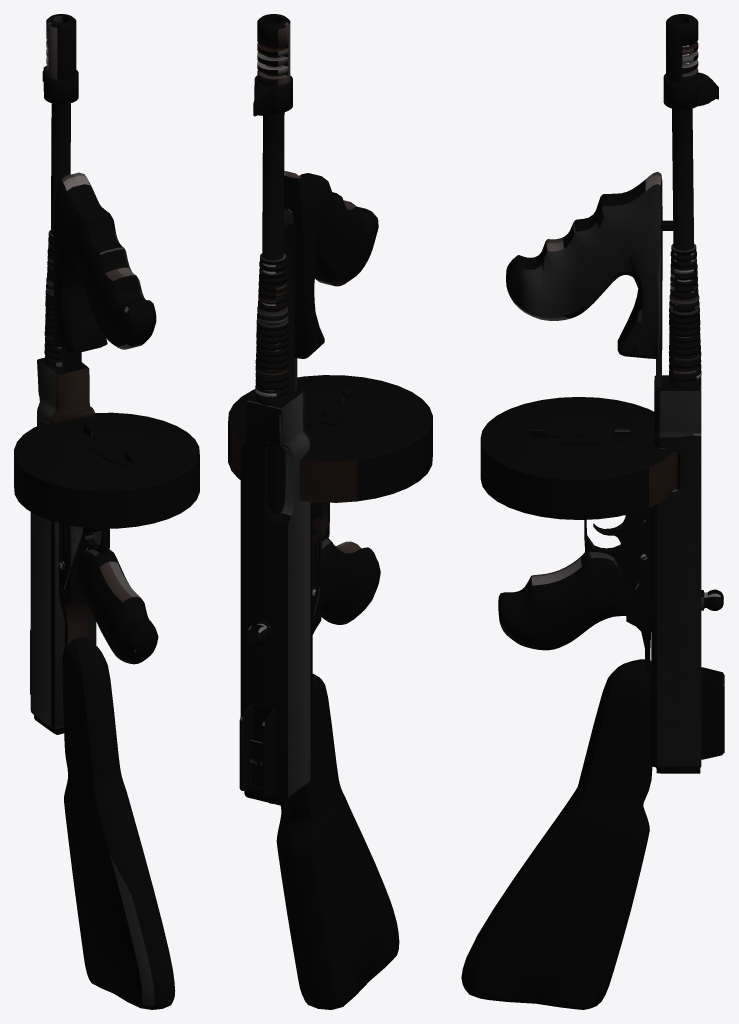
The model's file is ThompsonM1928.fbx.
The picture shows the model from 3 angles, left to right: view 1: azimuth 30°, elevation 25°; view 2: azimuth 150°, elevation 25°; view 3: azimuth 270°, elevation 25°; orthographic projection. The views are drawn at different scales.
Visible parts, largest first — view 1: asset_ThompsonM1928.001; view 2: asset_ThompsonM1928.001; view 3: asset_ThompsonM1928.001.
Boxes of the visible parts, box(x1,y1,x2,y2) form: asset_ThompsonM1928.001: box(14, 14, 199, 1009); asset_ThompsonM1928.001: box(228, 14, 432, 1009); asset_ThompsonM1928.001: box(461, 14, 724, 1009).
Size of the model in its own units: 0.0926 by 0.51 by 0.1235.
